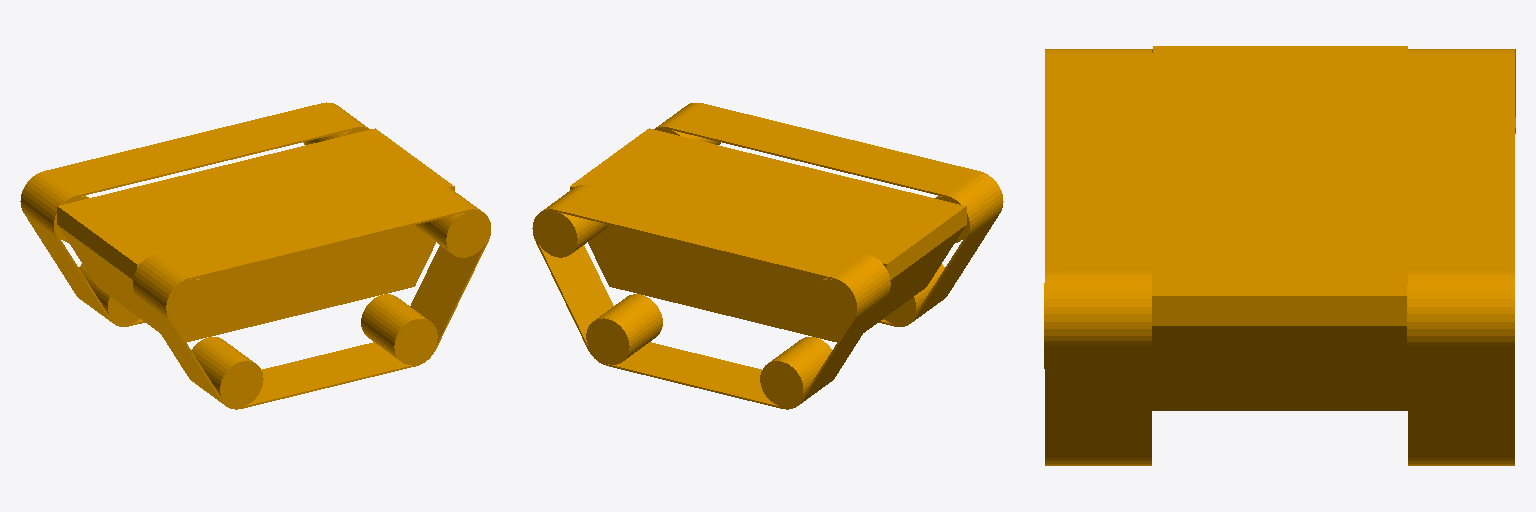
robot.urdf — capra6:
<robot name="capra6">
    <link name="base_link">
        <visual>
            <geometry>
                <mesh filename="package://capra_simulation/models/capra6/capra6.dae"/>
            </geometry>
            <origin rpy="1.57 0 1.57" xyz="0 0 0.2" />
        </visual>
        <inertial>
            <mass value="100" />
            <inertia ixx="10.0" ixy="0.0" ixz="0.0" iyy="10.0" iyz="0.0" izz="10.0" />
        </inertial>
        <collision>
            <geometry>
                <box size="0.5 0.5 0.2" />
            </geometry>
            <origin rpy="0 0 0" xyz="0 0 0.15" />
        </collision>
    </link>

    <joint name="joint4" type="fixed">
        <parent link="base_link" />
        <child link="pole" />
        <origin xyz="0 0 0" rpy="0 0 0" />
    </joint>


    <link name="pole">
        <inertial>
            <mass value="1" />
            <inertia ixx="1.0" ixy="0.0" ixz="0.0" iyy="1.0" iyz="0.0" izz="1.0" />
        </inertial>
        <collision>
            <geometry>
                <box size="0.05 0.05 1.2" />
            </geometry>
            <origin rpy="0 0 0" xyz="0 0 0.6" />
        </collision>
    </link>

    <joint name="joint1" type="fixed">
        <parent link="base_link" />
        <child link="laser" />
        <origin xyz="0.36 0 0.44" rpy="0 0 0" />
    </joint>


    <link name="laser">
        <inertial>
            <mass value="1" />
            <inertia ixx="1.0" ixy="0.0" ixz="0.0" iyy="1.0" iyz="0.0" izz="1.0" />
        </inertial>
        <collision>
            <geometry>
                <sphere radius="0.1" />
            </geometry>
        </collision>
    </link>

    <joint name="joint5" type="fixed">
        <parent link="base_link" />
        <child link="imu_robot" />
        <!-- IMU orientation
         - rotation autour de x de PI (180 degres) pour inverser le sens de rotation
         - rotation autour de z de PI/2 (90 degres) pour avoir l'est comme reference
         - autre rotation atour de Z pour la declinaison magnetique (0.25 rad) (pi /2 + 0.25 = 1.82079) -->
        <origin xyz="0 0 0.5" rpy="3.141593 0 1.22" />
    </joint>

    <link name="imu_robot">
        <inertial>
            <mass value="1" />
            <inertia ixx="1.0" ixy="0.0" ixz="0.0" iyy="1.0" iyz="0.0" izz="1.0" />
        </inertial>
        <collision>
            <geometry>
                <sphere radius="0.1" />
            </geometry>
        </collision>
    </link>

    <joint name="joint2" type="fixed">
        <parent link="base_link" />
        <child link="camera" />
        <origin xyz="0.28 0 1.28" rpy="0 0.92 0" />
    </joint>

    <link name='camera'>
        <inertial>
            <mass value="1" />
            <inertia ixx="1.0" ixy="0.0" ixz="0.0" iyy="1.0" iyz="0.0" izz="1.0" />
        </inertial>
        <collision>
            <geometry>
                <sphere radius="0.1" />
            </geometry>
        </collision>
    </link>

    <gazebo reference="base_link">
        <gravity>false</gravity>
    </gazebo>

    <gazebo reference="pole">
        <gravity>false</gravity>
    </gazebo>

    <gazebo reference="camera">
        <gravity>false</gravity>
        <sensor name="camera" type="camera" update_rate="20.0" >
            <camera>
                <horizontal_fov>1.6</horizontal_fov>
                <image>
                    <width>1292</width>
                    <height>734</height>
                </image>
                <clip>
                    <near>0.1</near>
                    <far>50</far>
                </clip>
                <noise>
                    <type>gaussian</type>
                    <mean>0.0</mean>
                    <stddev>0.007</stddev>
                </noise>
            </camera>
            <plugin name="camera_plugin" filename="libgazebo_ros_camera.so">
                <cameraName></cameraName>
                <frameName>camera</frameName>
                <imageTopicName>image_raw</imageTopicName>
                <cameraInfoTopicName>camera_info</cameraInfoTopicName>
            </plugin>
            <always_on>1</always_on>
            <update_rate>40</update_rate>
            <visualize>true</visualize>
        </sensor>
    </gazebo>

    <gazebo reference="laser">
        <gravity>false</gravity>
        <material>Gazebo/Red</material>

        <sensor name="laser" type="ray">
            <pose>0.5 0 0.4 0 0 0</pose>
            <ray>
                <scan>
                    <horizontal>
                        <samples>540</samples>
                        <resolution>1</resolution>
                        <min_angle>-2.3562</min_angle>
                        <max_angle>2.3562</max_angle>
                    </horizontal>
                </scan>
                <range>
                    <min>0.5</min>
                    <max>20</max>
                    <resolution>0.01</resolution>
                </range>
                <noise>
                    <type>gaussian</type>
                    <mean>0.0</mean>
                    <stddev>0.01</stddev>
                </noise>
            </ray>
            <plugin name="laser" filename="libgazebo_ros_laser.so">
                <topicName>/scan</topicName>
                <frameName>laser</frameName>
            </plugin>
            <always_on>1</always_on>
            <update_rate>5</update_rate>
            <visualize>true</visualize>
        </sensor>
    </gazebo>

    <gazebo>
        <plugin name="object_controller" filename="libgazebo_ros_planar_move.so">
            <commandTopic>/cmd_vel</commandTopic>
            <odometryTopic>/odom</odometryTopic>
            <odometryFrame>odom</odometryFrame>
            <odometryRate>20.0</odometryRate>
            <robotBaseFrame>base_footprint</robotBaseFrame>
        </plugin>

    </gazebo>


</robot>

--- What the picture shows (computed from the rendered views, not written in the file) ---
3 views of the same robot in one strip: view 1: azimuth 30°, elevation 25°; view 2: azimuth 150°, elevation 25°; view 3: azimuth 270°, elevation 25° (orthographic).
Model capra6 with 5 links and 4 joints (4 fixed), rooted at base_link, posed every joint at zero.
Visible links, largest first — view 1: base_link; view 2: base_link; view 3: base_link.
Boxes of the visible links, x1,y1,x2,y2 form: base_link: [20, 102, 490, 409]; base_link: [532, 103, 1003, 409]; base_link: [1044, 46, 1515, 465].
Bounding box of the posed robot: 572 × 445 × 242 m (x, y, z).
Meshes: 1 distinct files referenced, 1 mesh visuals loaded (1 Collada DAE).
